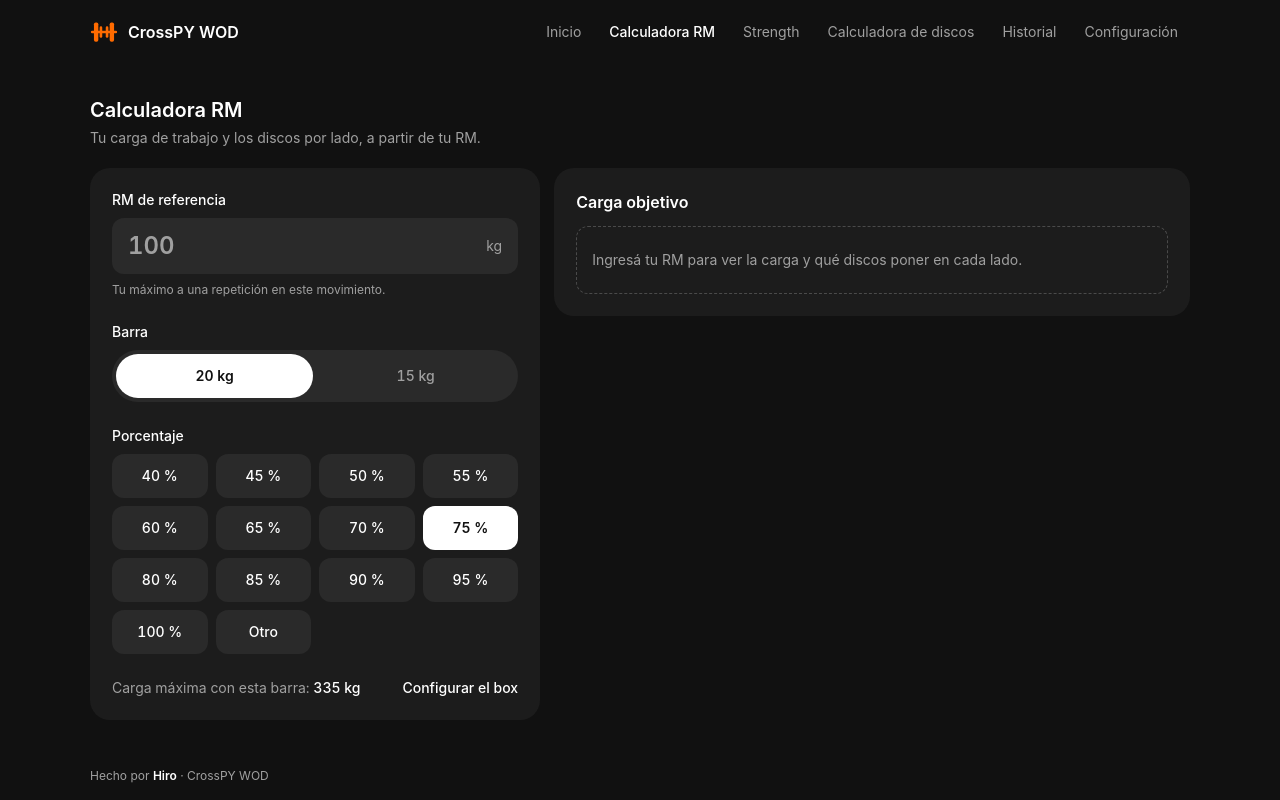
Calculadora RM › rechaza entradas que no son un peso
Type "-5" into the field labelled "RM de referencia" at (303, 246), box [128,232,478,260]
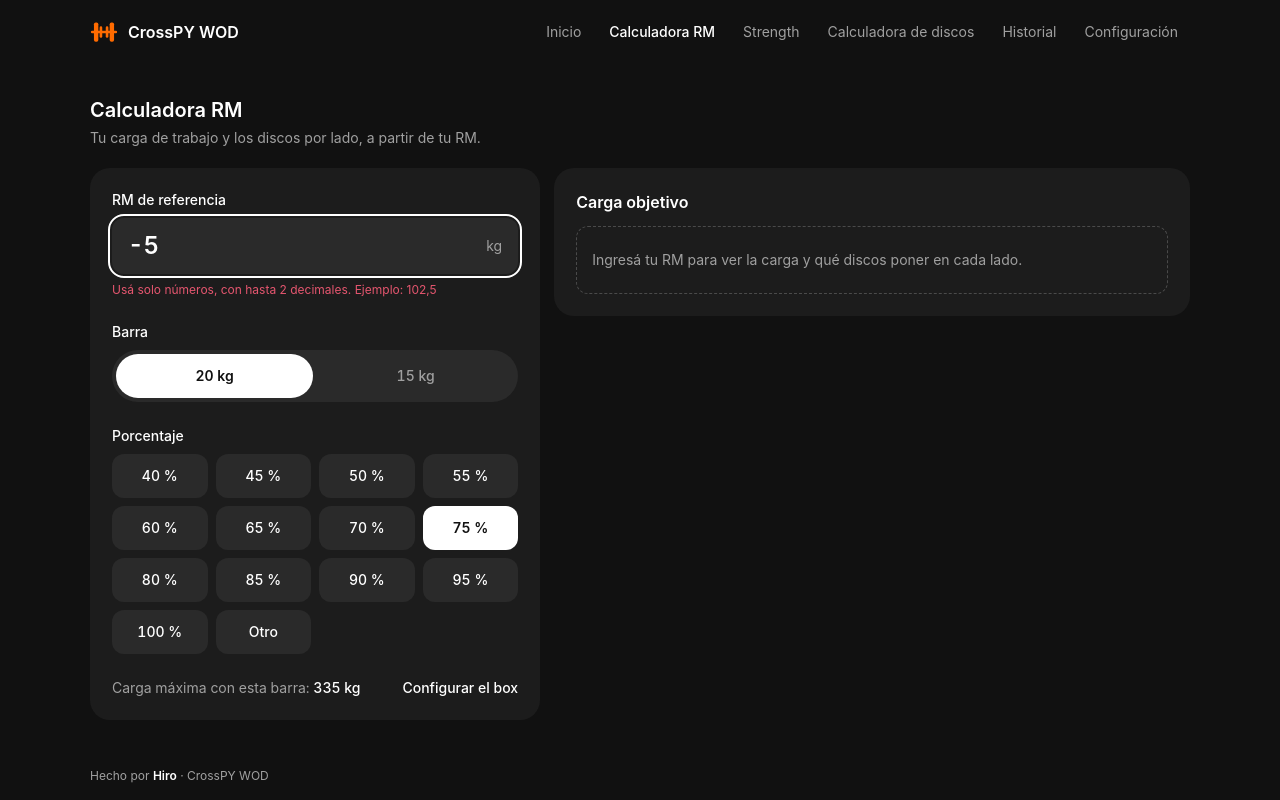
Expected: the text "Usá solo números, con hasta 2 decimales. Ejemplo: 102,5" is shown, [112,282,437,297]
